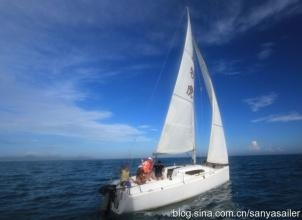fanchuan: (103, 4, 229, 215)
